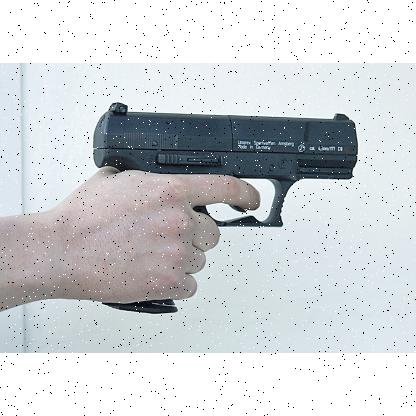gun: (92, 102, 358, 312)
